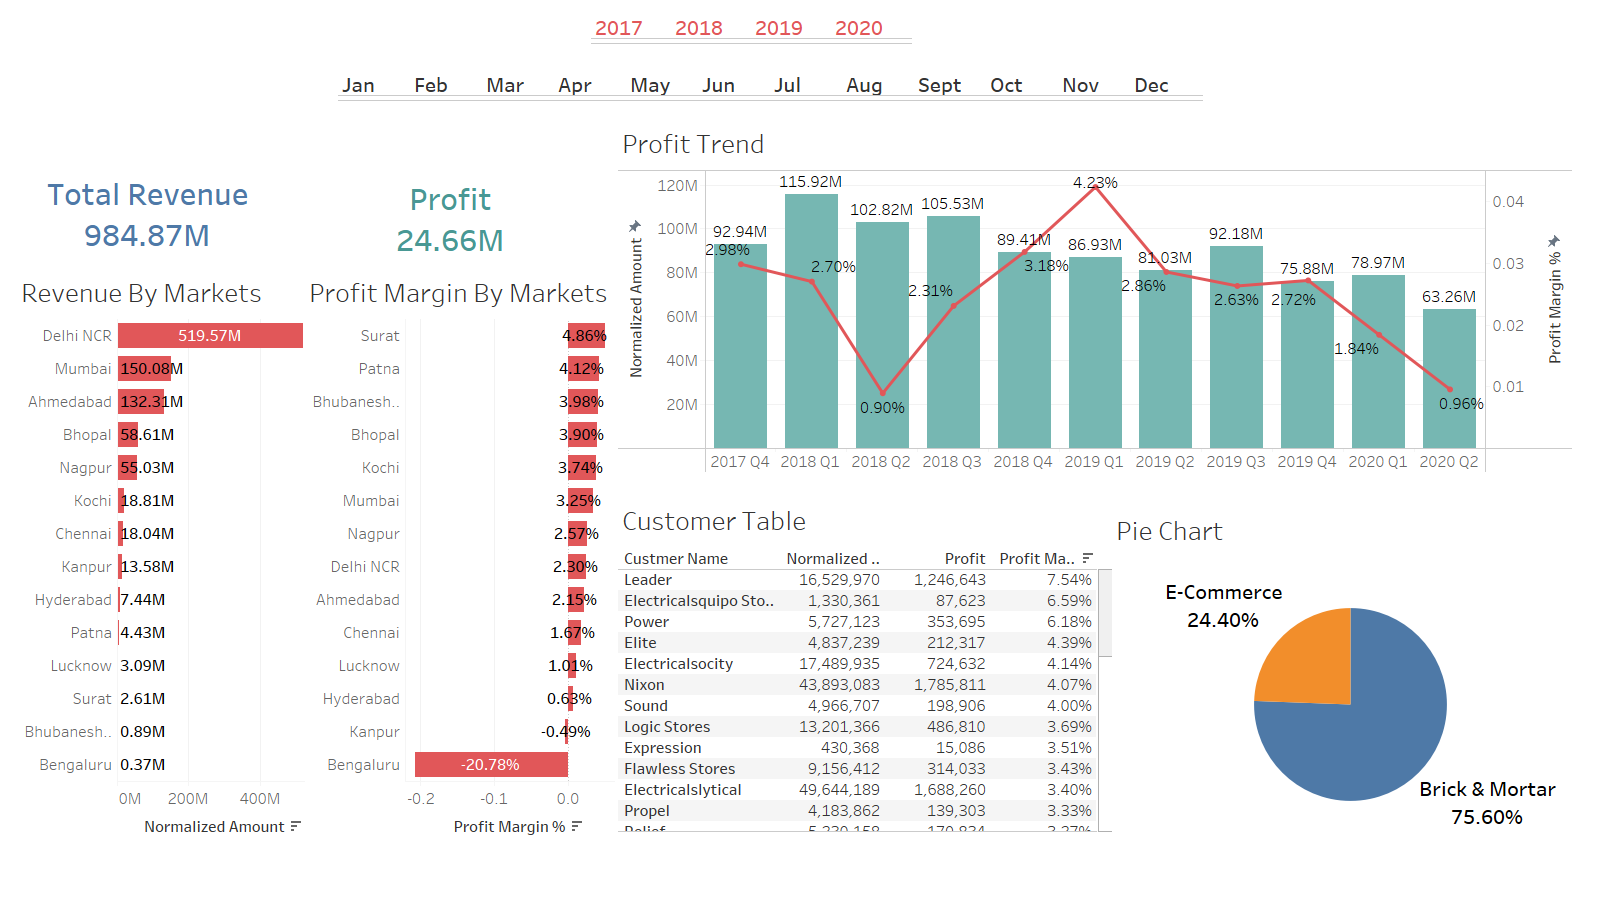

The dashboard page shown, as its layout file describes it:
{"tool":"tableau","page":{"name":"Dashboard - Profit Analysis","canvas":[1600,900],"ordinal":0},"visuals":[{"type":"worksheet","title":"Year","mark":"Automatic","cols":["cy_date"],"box":[591,2,352,95]},{"type":"worksheet","title":"Month","mark":"Automatic","cols":["cy_date"],"box":[338,59,941,80]},{"type":"worksheet","title":"Profit Trend","mark":"Bar","rows":["Calculation_689613759037042688","Calculation_1630584606582558720"],"cols":["cy_date"],"box":[618,120,955,353]},{"type":"worksheet","title":"Revenue","mark":"Automatic","box":[38,158,264,113]},{"type":"worksheet","title":"Profit","mark":"Automatic","box":[391,163,153,107]},{"type":"worksheet","title":"Revenue By Markets","mark":"Automatic","rows":["markets_name"],"cols":["Calculation_689613759037042688"],"box":[17,269,295,587]},{"type":"worksheet","title":"Profit Margin By Markets","mark":"Automatic","rows":["markets_name"],"cols":["Calculation_1630584606582558720"],"box":[305,269,309,593]},{"type":"worksheet","title":"Customer Table","mark":"Automatic","rows":["custmer_name"],"box":[618,497,534,335]},{"type":"worksheet","title":"Pie Chart","mark":"Pie","box":[1112,507,477,345]}]}

Visuals, with their boxes in screenshot pixels (x1, y1, x2, y2), scaled from the page's 1600x900 canvas onto the 1600x900 screenshot:
"Year" worksheet: (x1=591, y1=2, x2=943, y2=97)
"Month" worksheet: (x1=338, y1=59, x2=1279, y2=139)
"Profit Trend" worksheet (Bar marks): (x1=618, y1=120, x2=1573, y2=473)
"Revenue" worksheet: (x1=38, y1=158, x2=302, y2=271)
"Profit" worksheet: (x1=391, y1=163, x2=544, y2=270)
"Revenue By Markets" worksheet: (x1=17, y1=269, x2=312, y2=856)
"Profit Margin By Markets" worksheet: (x1=305, y1=269, x2=614, y2=862)
"Customer Table" worksheet: (x1=618, y1=497, x2=1152, y2=832)
"Pie Chart" worksheet (Pie marks): (x1=1112, y1=507, x2=1589, y2=852)
